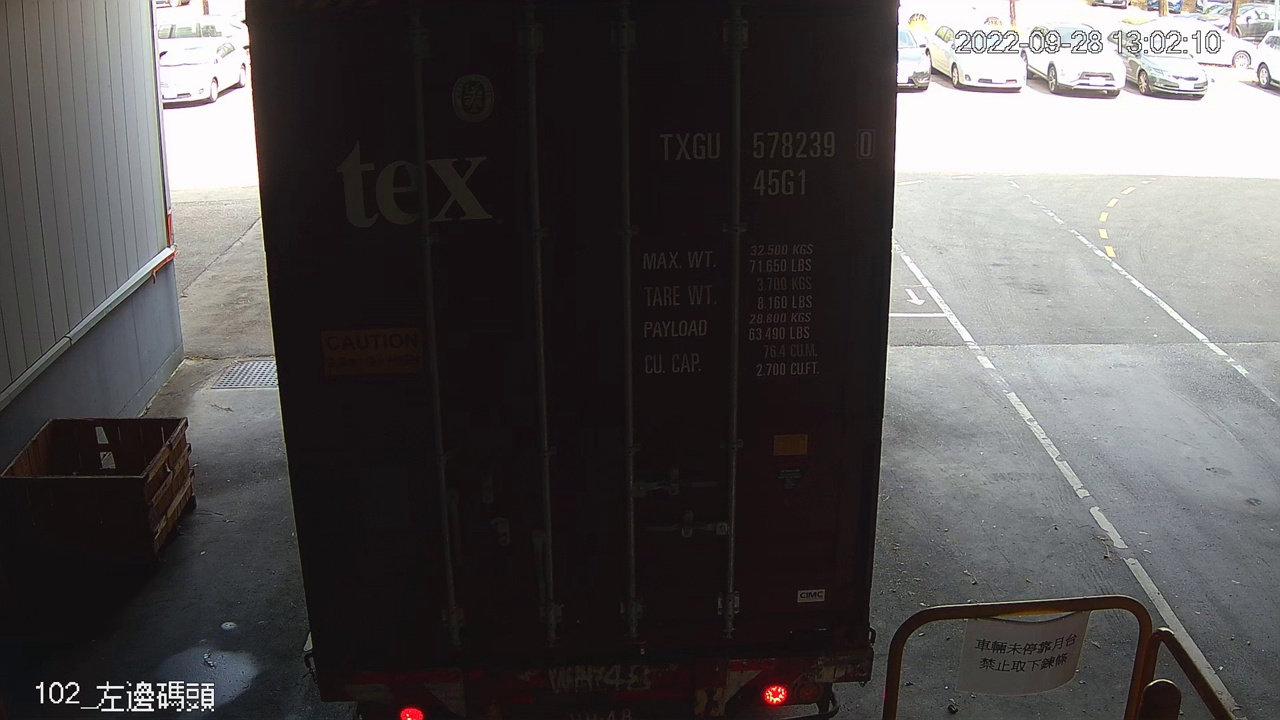container: (651, 119, 881, 204)
